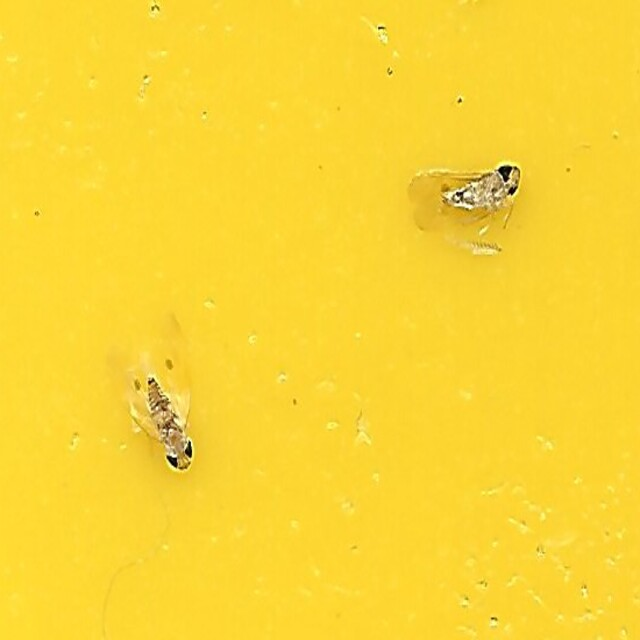Hemiptera: (116, 317, 195, 480), (407, 160, 524, 237)
